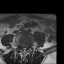CCS_normal: (24, 45, 25, 53)
LFS_severe_stenosis: (27, 44, 29, 49)
LLS_stenosis: (25, 46, 27, 50)
RFS_severe_stenosis: (20, 44, 22, 49)
RLS_severe_stenosis: (22, 45, 24, 51)
